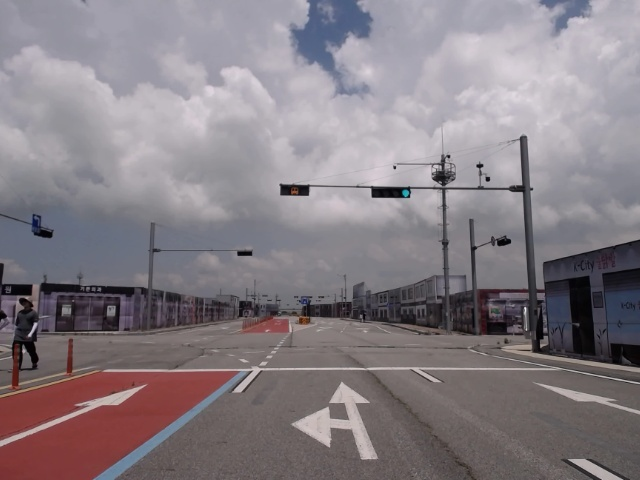straight_green_4: (370, 187, 410, 199)
